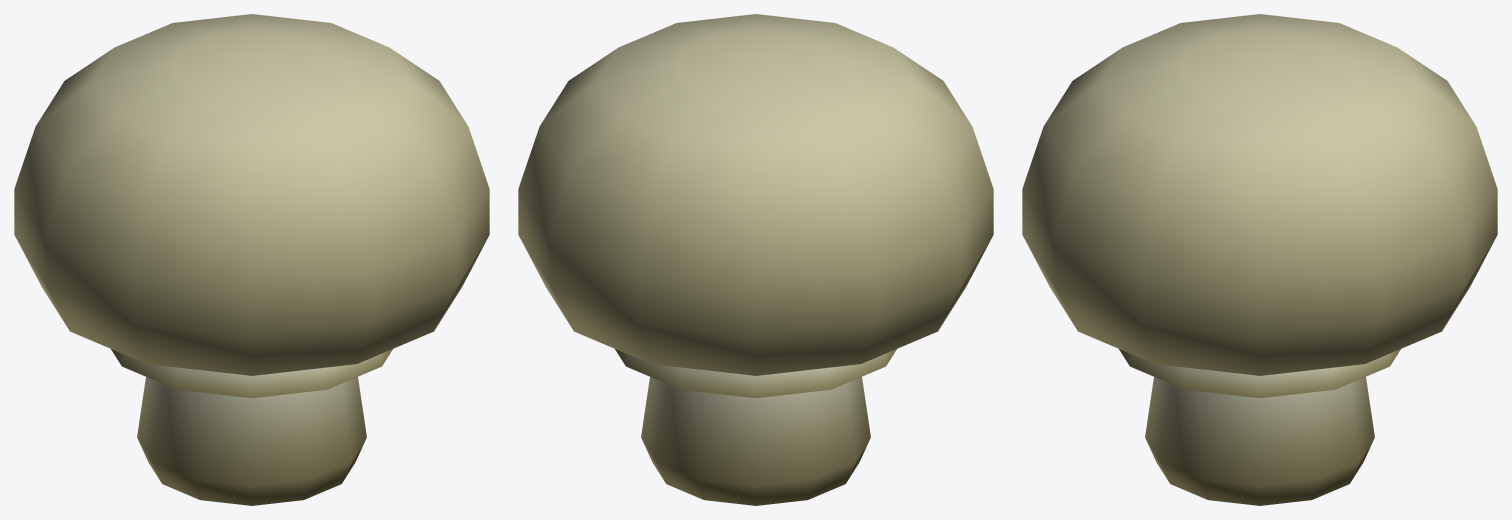
File: Bell_Mushroom_02.glb
3 views of the same model, side by side, from view 1: azimuth 30°, elevation 25°; view 2: azimuth 150°, elevation 25°; view 3: azimuth 270°, elevation 25° (orthographic).
Visible parts, largest first — view 1: Bell_Mushroom_02; view 2: Bell_Mushroom_02; view 3: Bell_Mushroom_02.
Part boxes in pixels (bbox=[...]): Bell_Mushroom_02: bbox=[14, 14, 489, 505]; Bell_Mushroom_02: bbox=[518, 14, 993, 505]; Bell_Mushroom_02: bbox=[1022, 14, 1497, 505].
Size of the model in its own units: 0.2127 by 0.2045 by 0.2127.
1 material, 1 textured.
